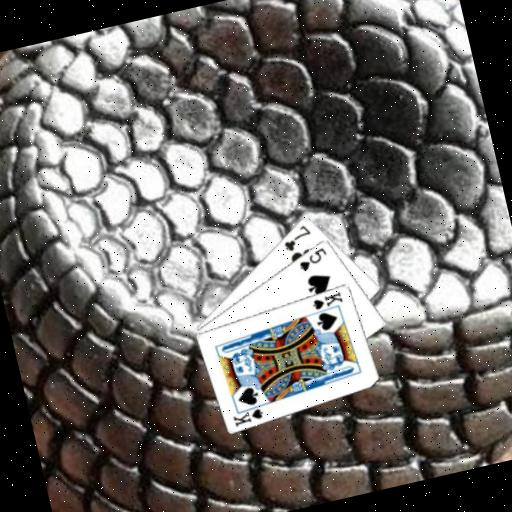5S: (294, 244, 332, 274)
7C: (278, 221, 316, 255)
KS: (229, 401, 269, 429), (307, 288, 345, 312)
